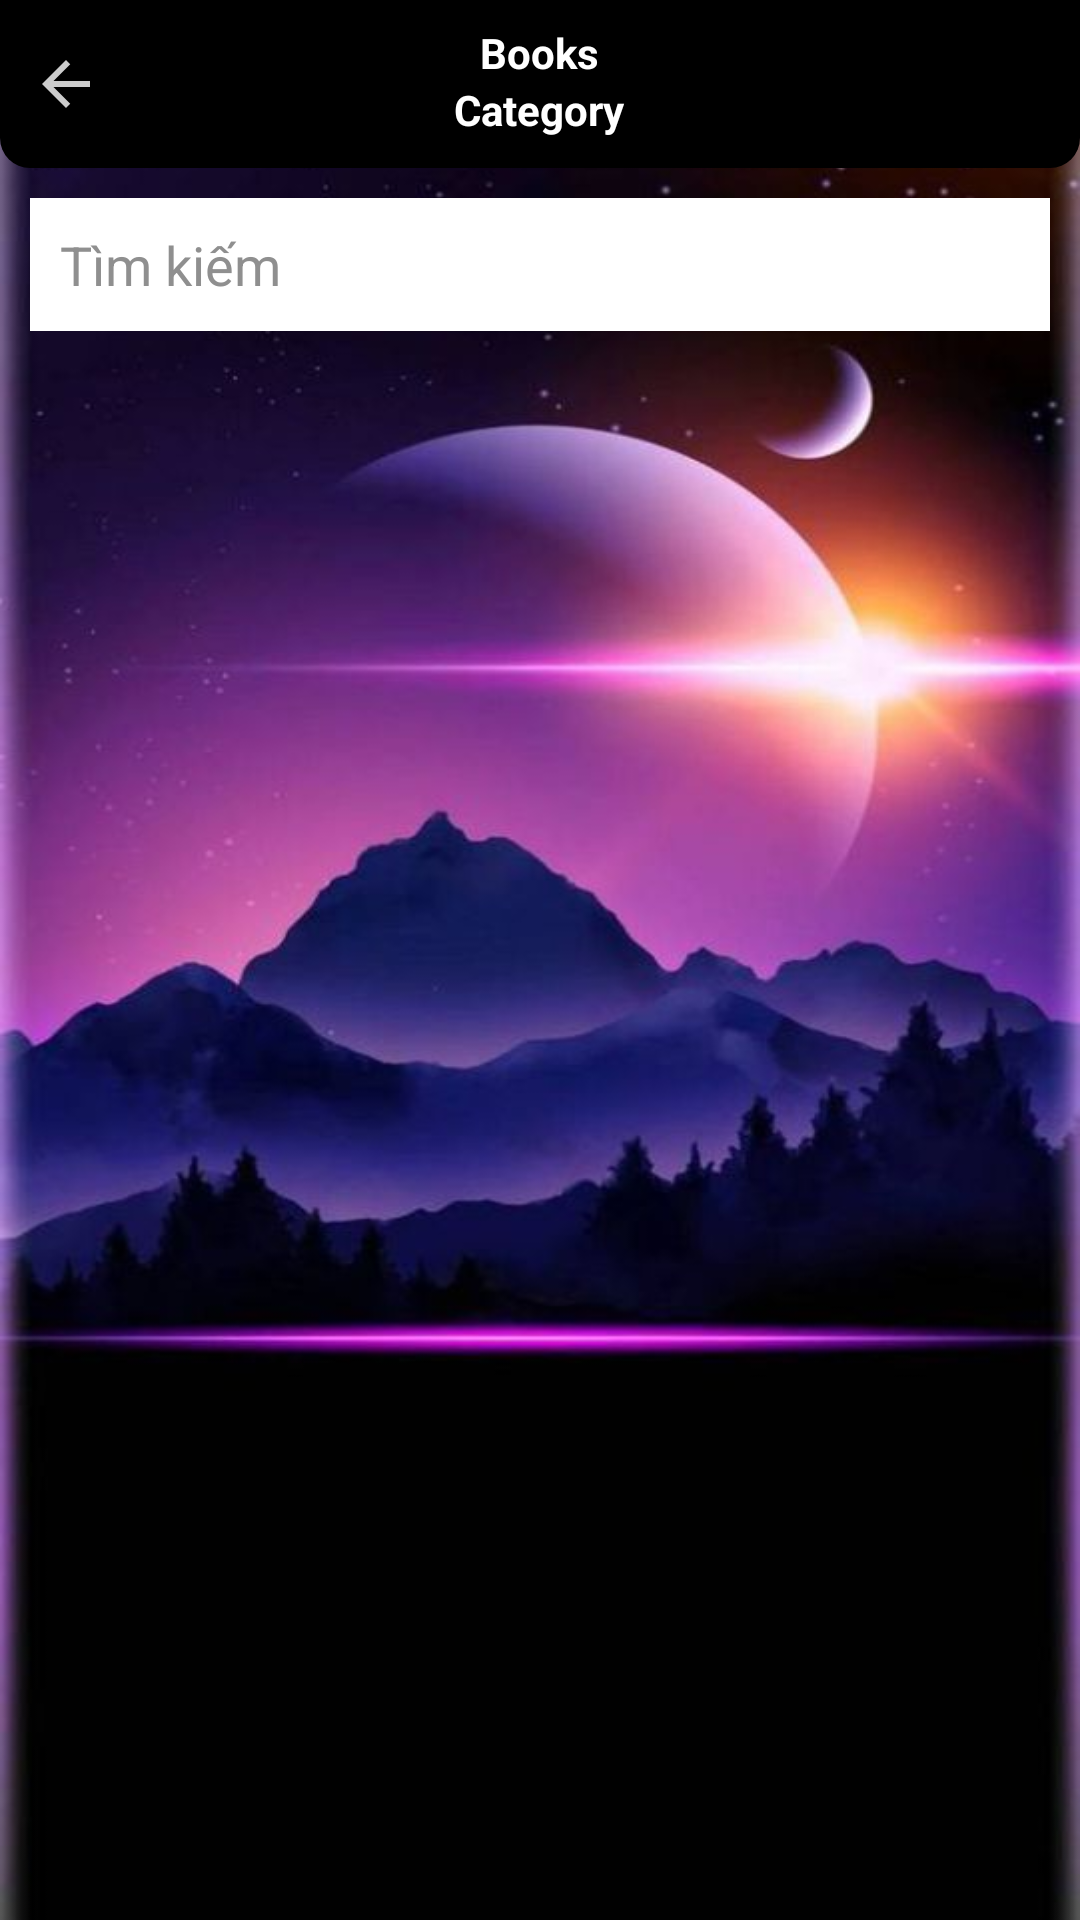

Screen size 1080px x 1920px. Icon name, then its box in pixels as (x1, y1, x2, y2):
back: (42, 60, 90, 108)
